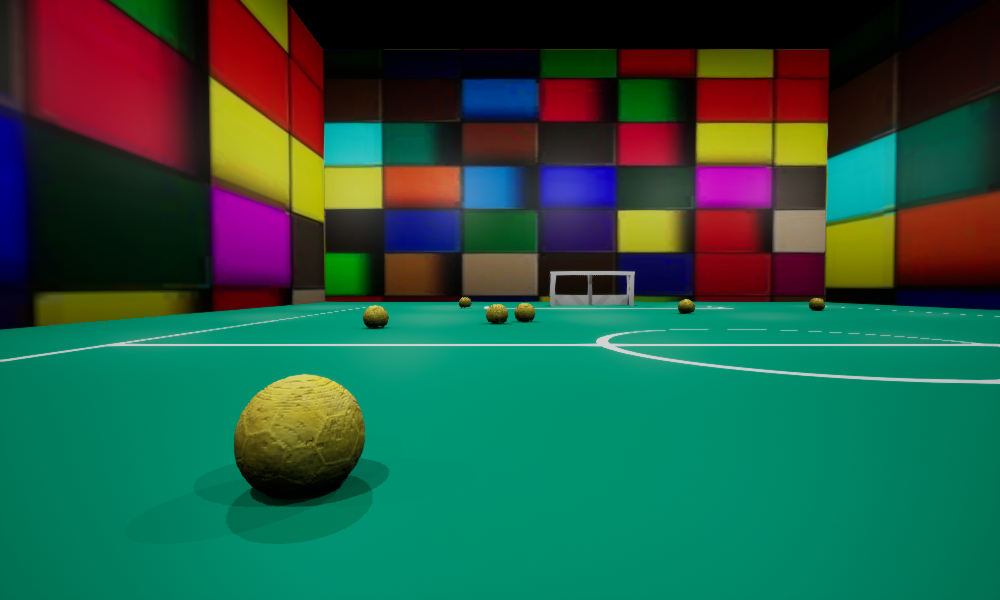b: (234, 374, 364, 498), (363, 305, 388, 327), (486, 304, 507, 322), (514, 303, 534, 321), (678, 299, 694, 313), (809, 298, 824, 309), (459, 297, 471, 307)
g: (550, 271, 634, 305)
